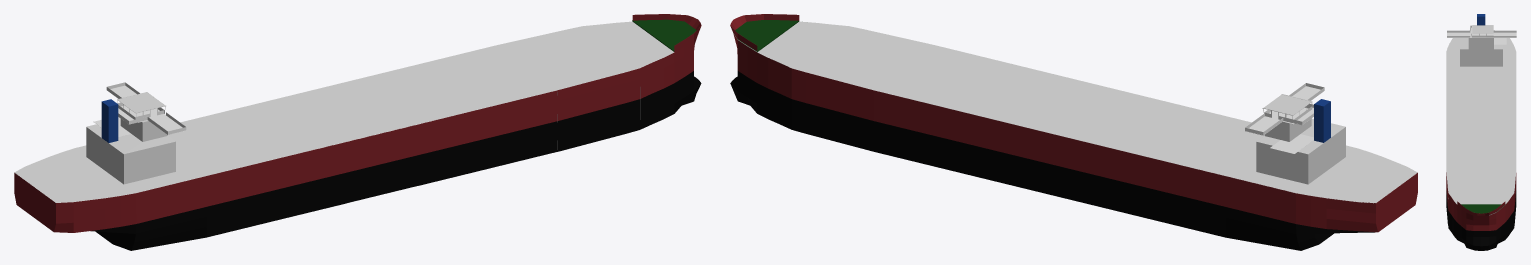
The model's file is shipHull.fbx.
The picture shows the model from 3 angles, left to right: view 1: azimuth 30°, elevation 25°; view 2: azimuth 150°, elevation 25°; view 3: azimuth 270°, elevation 25°; orthographic projection. The views are drawn at different scales.
Parts seen in each view (by area): view 1: 平面, 平面.003, 平面.005, 平面.007; view 2: 平面, 平面.003, 平面.005, 平面.007, 平面.001; view 3: 平面, 平面.003, 平面.007, 平面.005, 平面.001, 平面.011.
Part boxes in pixels (x1,y1,x2,y2): 平面: (14, 14, 701, 250); 平面.003: (106, 82, 186, 134); 平面.005: (101, 99, 118, 142); 平面.007: (117, 92, 165, 113); 平面: (730, 14, 1417, 250); 平面.003: (1245, 83, 1324, 135); 平面.005: (1314, 99, 1330, 142); 平面.007: (1263, 94, 1312, 115); 平面.001: (1270, 134, 1313, 154); 平面: (1446, 38, 1516, 250); 平面.003: (1447, 25, 1516, 37); 平面.007: (1472, 25, 1493, 33); 平面.005: (1477, 14, 1485, 25); 平面.001: (1494, 38, 1506, 44); 平面.011: (1471, 34, 1493, 37).
Size of the model in its own units: 23066 by 4272 by 3725.
